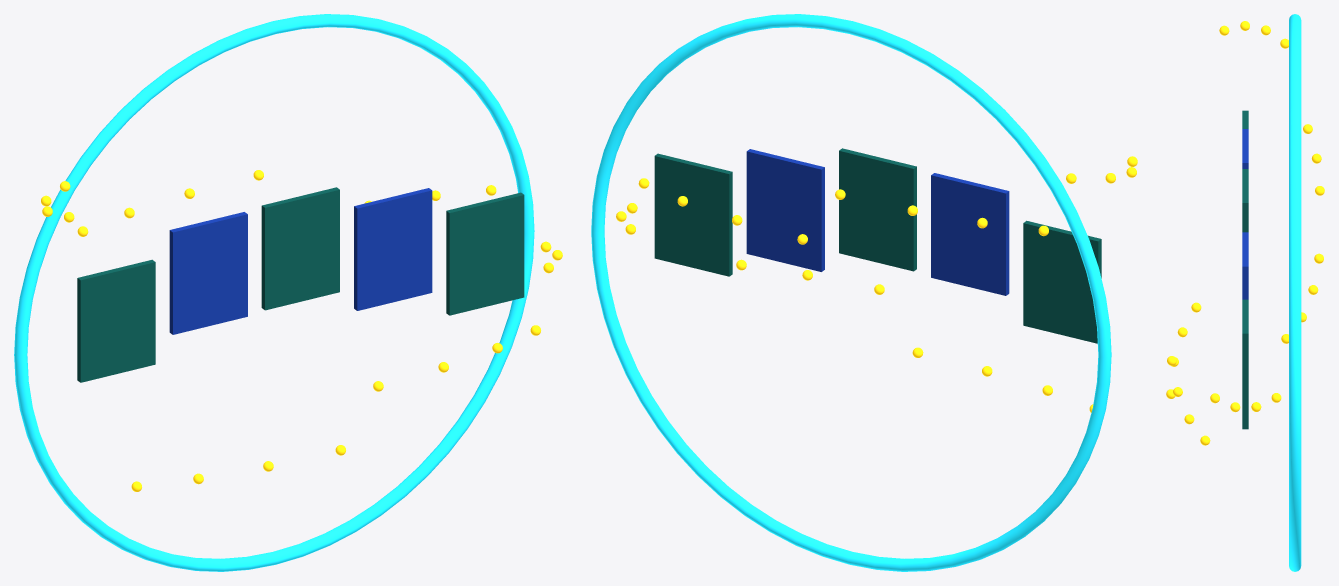
File: holographic-quiz-arena.glb
3 renders of one model, left to right at view 1: azimuth 30°, elevation 25°; view 2: azimuth 150°, elevation 25°; view 3: azimuth 270°, elevation 25°, orthographic. The views are drawn at different scales.
Visible parts, largest first — view 1: quiz-light-ring, quiz-card-3, quiz-card-5, quiz-card-2, quiz-card-1, quiz-card-4; view 2: quiz-light-ring, quiz-card-2, quiz-card-4, quiz-card-5, quiz-card-3, quiz-card-1; view 3: quiz-light-ring, quiz-card-5, quiz-card-4, quiz-card-3, quiz-card-2.
Part boxes in pixels (left/top/right/bottom): quiz-light-ring: left=14, top=14, right=534, bottom=571; quiz-card-3: left=261, top=187, right=339, bottom=310; quiz-card-5: left=446, top=192, right=524, bottom=315; quiz-card-2: left=169, top=212, right=247, bottom=334; quiz-card-1: left=77, top=259, right=155, bottom=382; quiz-card-4: left=354, top=188, right=432, bottom=310; quiz-light-ring: left=591, top=14, right=1111, bottom=571; quiz-card-2: left=931, top=173, right=1009, bottom=295; quiz-card-4: left=746, top=149, right=824, bottom=271; quiz-card-5: left=654, top=153, right=732, bottom=276; quiz-card-3: left=839, top=148, right=916, bottom=271; quiz-card-1: left=1023, top=220, right=1101, bottom=343; quiz-light-ring: left=1289, top=14, right=1301, bottom=571; quiz-card-5: left=1242, top=299, right=1248, bottom=429; quiz-card-4: left=1242, top=232, right=1248, bottom=299; quiz-card-3: left=1242, top=169, right=1248, bottom=232; quiz-card-2: left=1242, top=129, right=1248, bottom=168.
Size of the model in its own units: 4.5 by 4.5 by 1.28.
